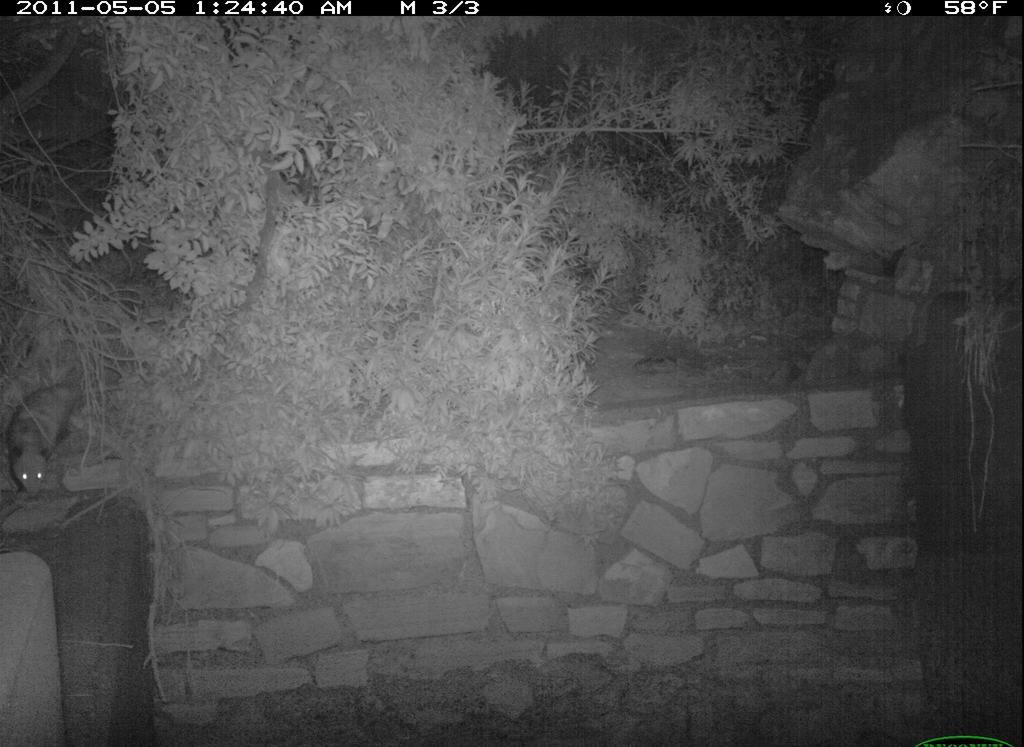opossum: (10, 352, 115, 513)
